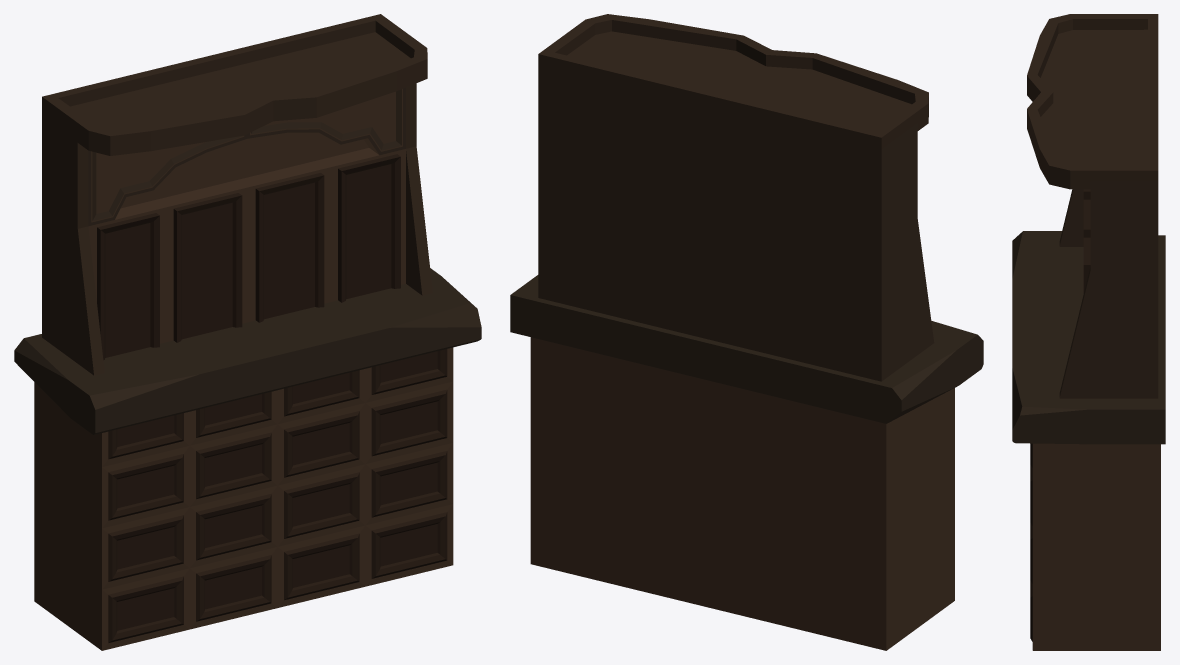
File: Schrank01.fbx
3 views of the same model, side by side, from view 1: azimuth 30°, elevation 25°; view 2: azimuth 150°, elevation 25°; view 3: azimuth 270°, elevation 25° (orthographic). The views are drawn at different scales.
Parts seen in each view (by area): view 1: Cube.011; view 2: Cube.011; view 3: Cube.011.
Boxes of the visible parts, bbox=[...] form: Cube.011: bbox=[14, 14, 481, 650]; Cube.011: bbox=[510, 14, 983, 650]; Cube.011: bbox=[1012, 14, 1165, 650].
Bounding box in the file's own units: 320 × 399 × 116.
